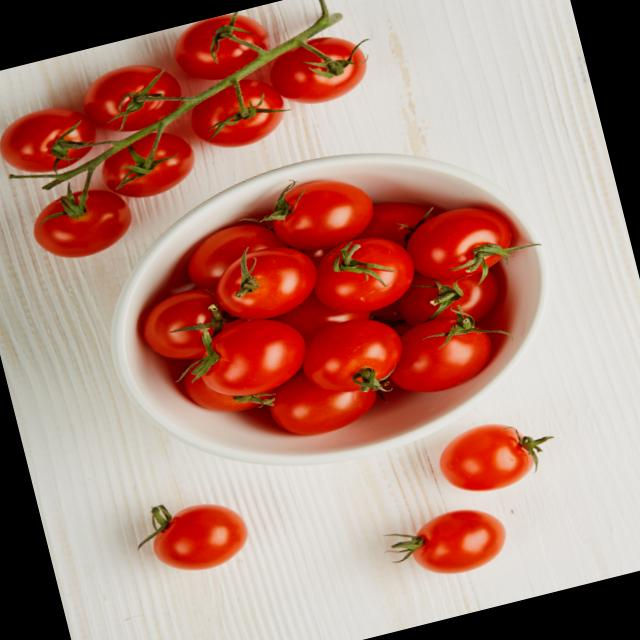tomato: (380, 491, 516, 594), (186, 308, 320, 406), (125, 486, 252, 588), (404, 192, 532, 290), (428, 409, 552, 504), (270, 24, 386, 119), (76, 55, 198, 145), (168, 2, 289, 92), (23, 180, 142, 271), (310, 222, 420, 320), (262, 166, 376, 258), (299, 310, 407, 404), (393, 311, 503, 400), (191, 72, 307, 156), (214, 241, 324, 325), (96, 126, 202, 206), (0, 101, 93, 190)
